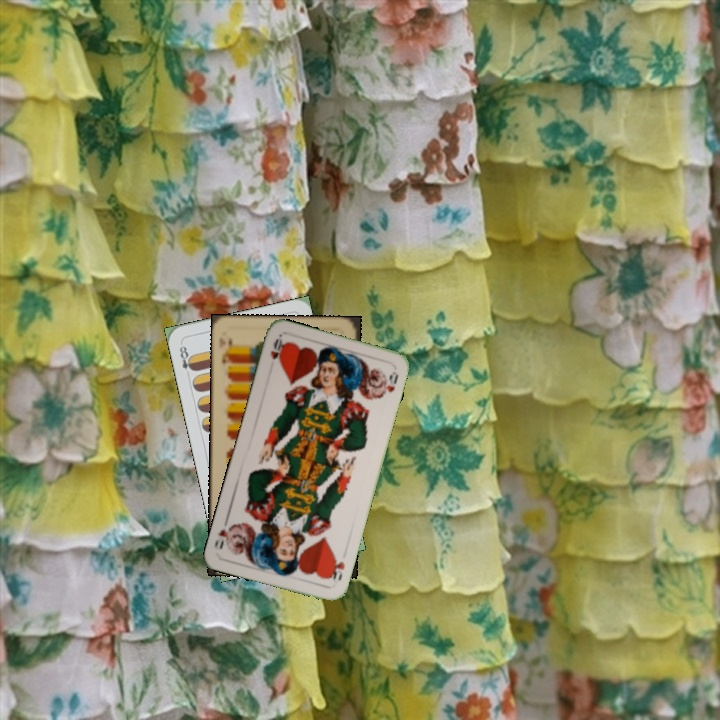E10: (218, 334, 234, 366)
E8: (176, 339, 197, 380)
HO: (325, 552, 347, 583), (266, 333, 286, 366)
